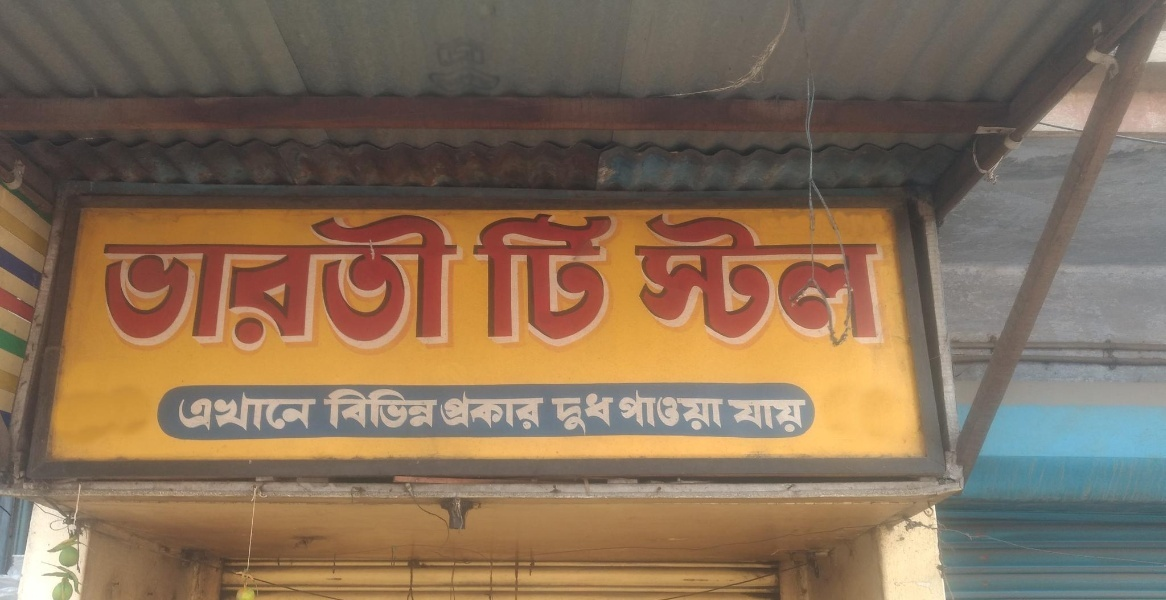text: (113, 209, 128, 367), (129, 209, 144, 367), (145, 209, 160, 367), (161, 209, 176, 367), (177, 209, 192, 367), (193, 209, 208, 367), (209, 209, 224, 367), (225, 209, 240, 367), (241, 209, 256, 367), (257, 209, 272, 367), (273, 209, 288, 367), (289, 209, 304, 367), (305, 209, 320, 367), (321, 209, 336, 367), (337, 209, 352, 367), (353, 209, 368, 367), (369, 209, 384, 367), (385, 209, 400, 367), (401, 209, 416, 367), (417, 209, 432, 367), (433, 209, 448, 367), (449, 209, 464, 367), (481, 211, 496, 361), (497, 211, 512, 361), (513, 211, 528, 361), (529, 211, 544, 361), (545, 211, 560, 361), (561, 211, 576, 361), (577, 211, 592, 361), (593, 211, 608, 361), (625, 212, 640, 359), (641, 212, 656, 359), (657, 212, 672, 359), (673, 212, 688, 359), (689, 212, 704, 359), (705, 212, 720, 359), (721, 212, 736, 359), (737, 212, 752, 359), (753, 212, 768, 359), (769, 212, 784, 359), (785, 212, 800, 359), (801, 212, 816, 359), (817, 212, 832, 359), (833, 212, 848, 359), (849, 212, 864, 359), (865, 212, 880, 359), (881, 212, 895, 359), (467, 211, 480, 361), (609, 211, 622, 361), (104, 209, 112, 367), (465, 209, 470, 367), (561, 392, 576, 435), (577, 392, 592, 435), (593, 392, 608, 435), (625, 390, 640, 433), (641, 390, 656, 433), (657, 390, 672, 433), (673, 390, 688, 433), (689, 390, 704, 433), (705, 390, 720, 433), (193, 391, 208, 433), (209, 391, 224, 433), (225, 391, 240, 433), (241, 391, 256, 433), (257, 391, 272, 433), (273, 391, 288, 433), (289, 391, 304, 433), (337, 388, 352, 430), (353, 388, 368, 430), (369, 388, 384, 430), (385, 388, 400, 430), (401, 388, 416, 430), (417, 388, 432, 430), (449, 390, 464, 432), (465, 390, 480, 432), (481, 390, 496, 432), (497, 390, 512, 432), (513, 390, 528, 432), (529, 390, 544, 432), (305, 391, 318, 433), (323, 388, 336, 430), (737, 399, 752, 434), (753, 399, 768, 434), (769, 399, 784, 434), (785, 399, 800, 434), (180, 391, 192, 433), (552, 392, 560, 435), (440, 390, 448, 432), (801, 399, 809, 434), (433, 388, 439, 430), (729, 399, 736, 434), (609, 392, 614, 435), (619, 390, 624, 433), (721, 390, 724, 433)
